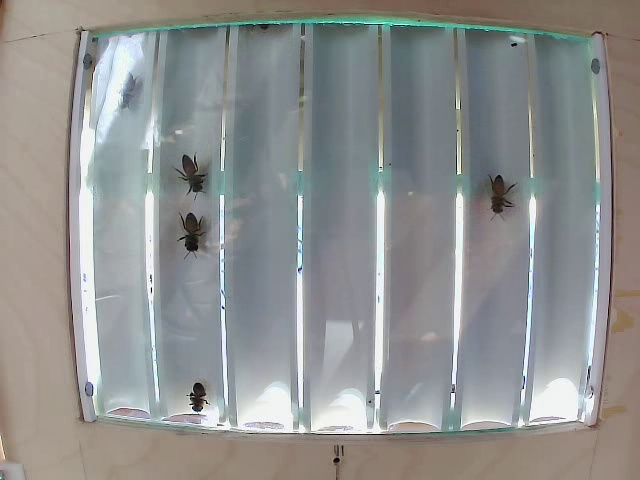bee: (173, 213, 205, 258), (182, 146, 214, 187), (484, 172, 508, 209)
